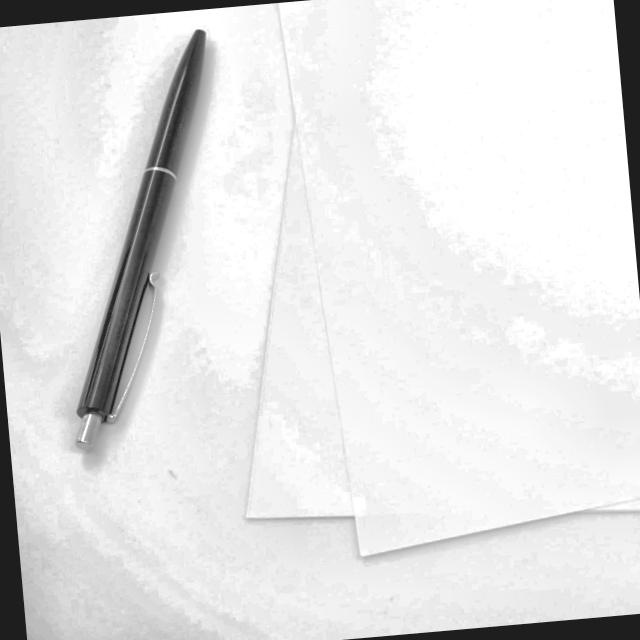Pen: (34, 18, 249, 458)
